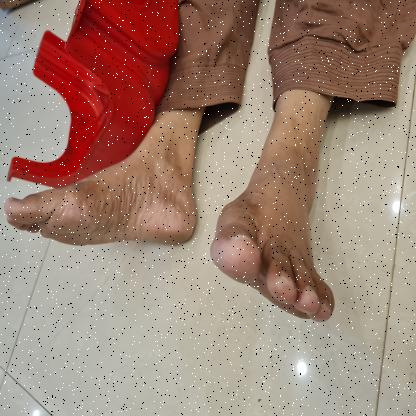leg: (206, 82, 346, 331), (1, 105, 208, 258)
